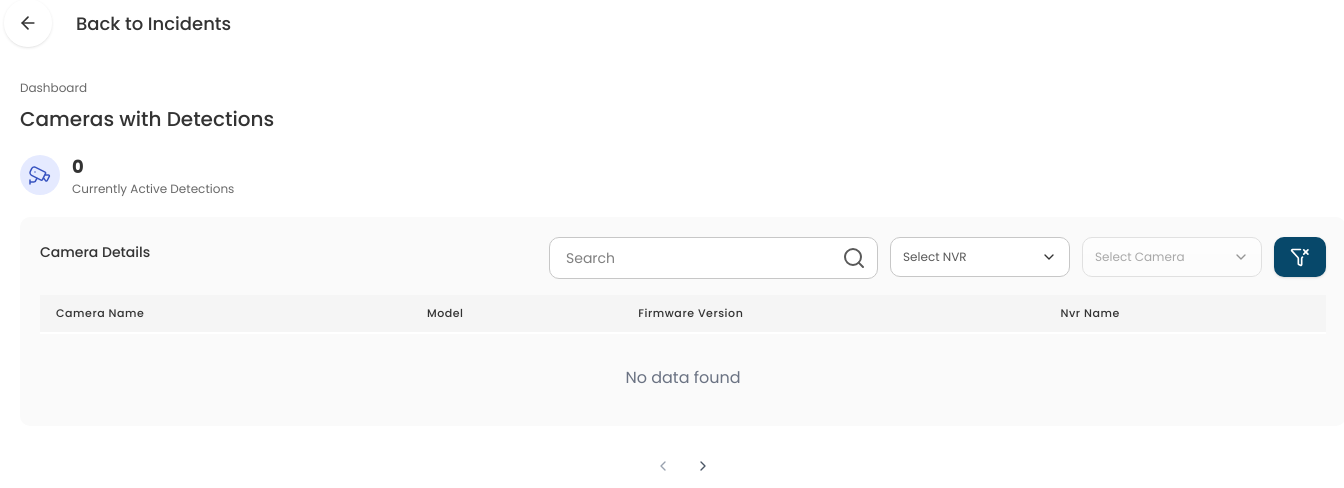
Test: Dashboard/Alertcards/ActiveCamera › search input lowercases the typed value into searchTerm; FilterX clears all three filters
The width and height of the screenshot is (1344, 488).
Type "HELLO" into the field with placeholder "Search". click: (714, 258)
box: [549,237,878,279]
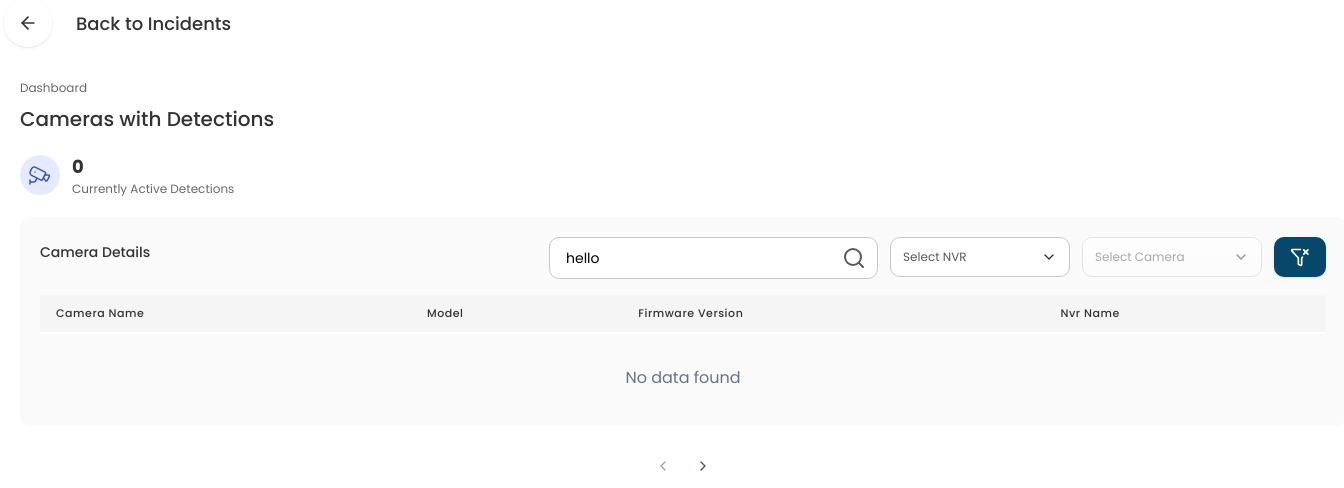
Click the button titled "Clear Filters". click: (1300, 257)
box: [1274,237,1326,277]
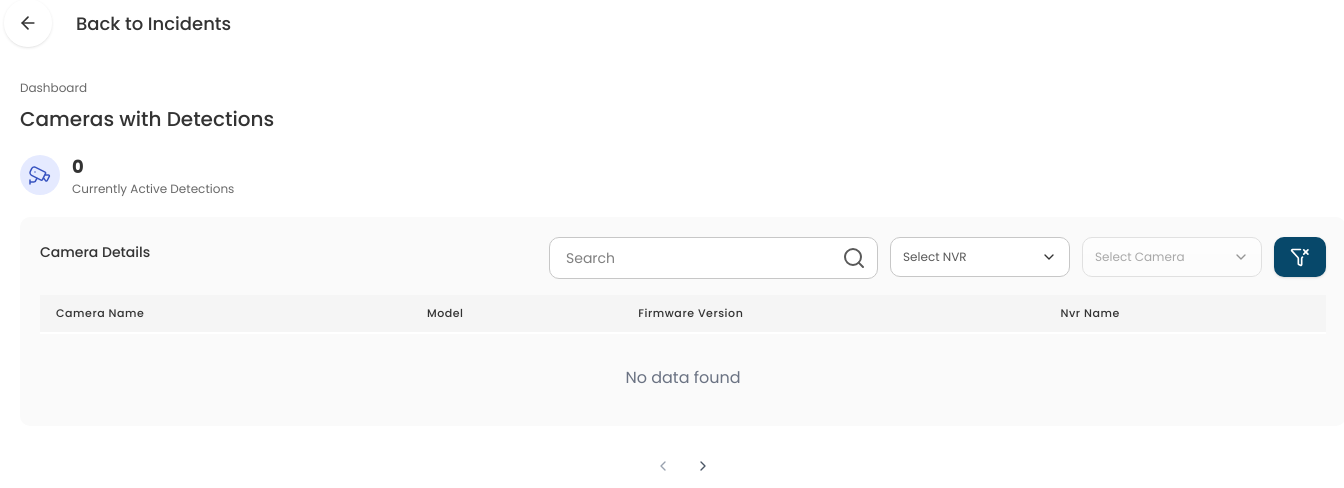
Expected: the field with placeholder "Search" is empty, [549,237,878,279]
